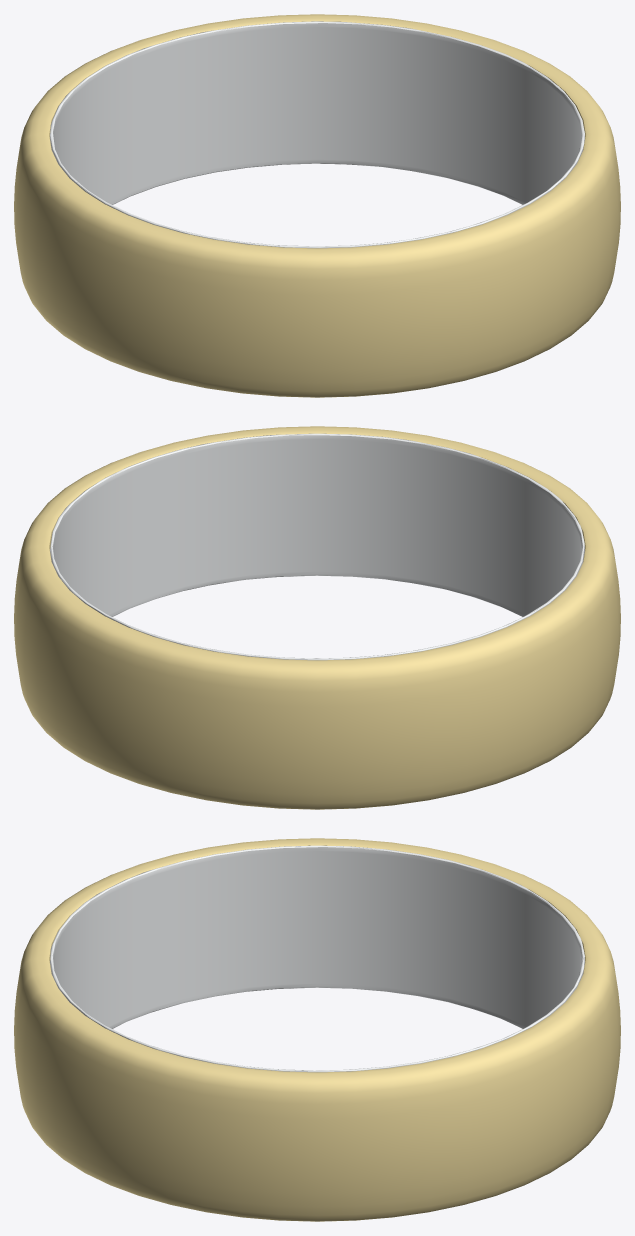
3 views of the same model, one above another, from view 1: azimuth 30°, elevation 25°; view 2: azimuth 150°, elevation 25°; view 3: azimuth 270°, elevation 25° (orthographic).
Visible parts, largest first — view 1: Base_Metal, Engraving_Metal, Finishing_Metal; view 2: Base_Metal, Engraving_Metal, Finishing_Metal; view 3: Base_Metal, Engraving_Metal, Finishing_Metal.
Boxes of the visible parts, <box> form: Base_Metal: <box>14,14,620,397</box>; Engraving_Metal: <box>53,27,581,202</box>; Finishing_Metal: <box>50,21,584,248</box>; Base_Metal: <box>14,426,620,809</box>; Engraving_Metal: <box>53,439,581,614</box>; Finishing_Metal: <box>50,433,584,660</box>; Base_Metal: <box>14,838,620,1221</box>; Engraving_Metal: <box>53,851,581,1026</box>; Finishing_Metal: <box>50,845,584,1072</box>.
Size of the model in its own units: 1.55 by 0.4 by 1.55.
